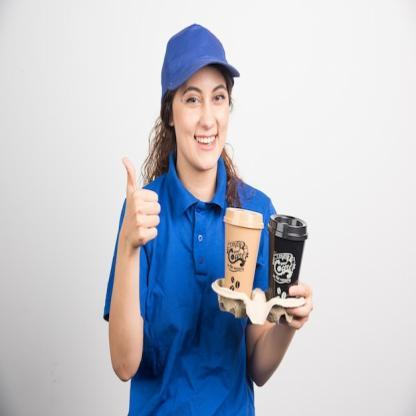thumb_up: (118, 153, 165, 251)
